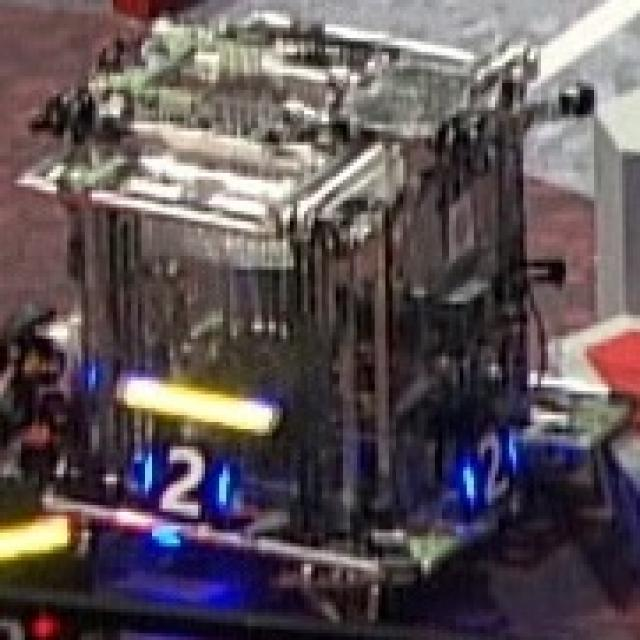B2: (120, 438, 234, 514), (442, 420, 520, 514)
